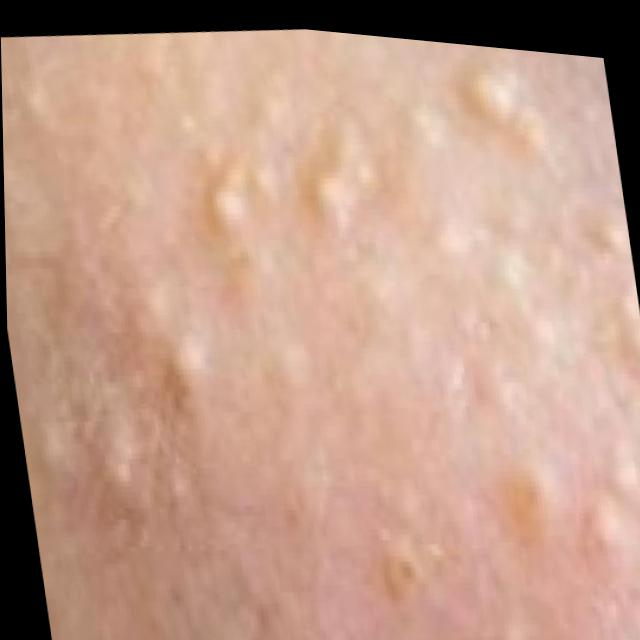whitehead: (25, 28, 640, 640)
